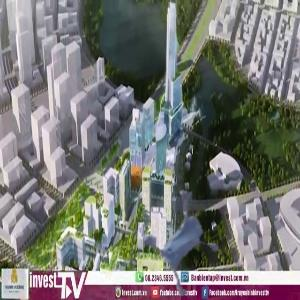drone: (120, 170, 237, 287)
